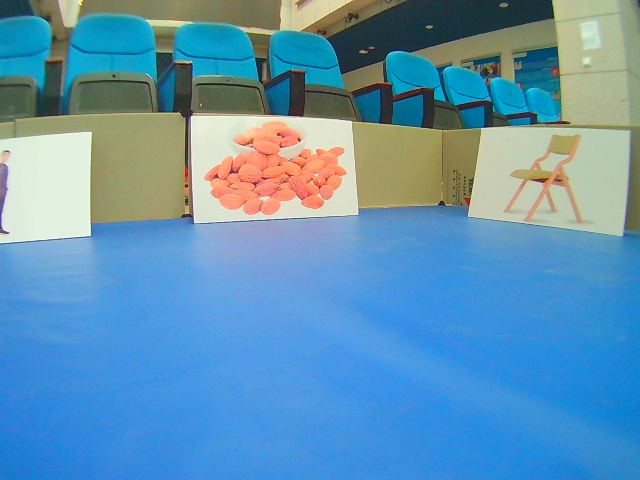food: (191, 114, 361, 224)
table: (468, 127, 630, 237)
